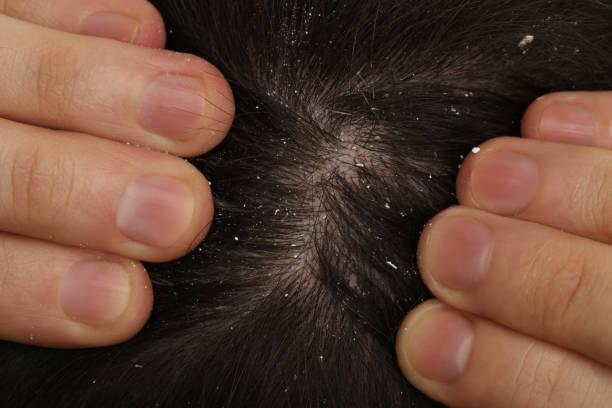dandruff: (370, 244, 408, 285), (263, 199, 306, 230), (510, 23, 541, 59), (284, 24, 314, 49), (444, 99, 465, 124), (462, 144, 488, 158), (275, 135, 295, 152), (278, 289, 296, 306), (378, 196, 392, 211), (132, 360, 146, 374), (314, 351, 329, 364), (248, 101, 261, 114), (397, 87, 407, 102), (462, 41, 473, 54), (228, 232, 241, 242), (253, 169, 263, 181), (370, 102, 379, 114)
